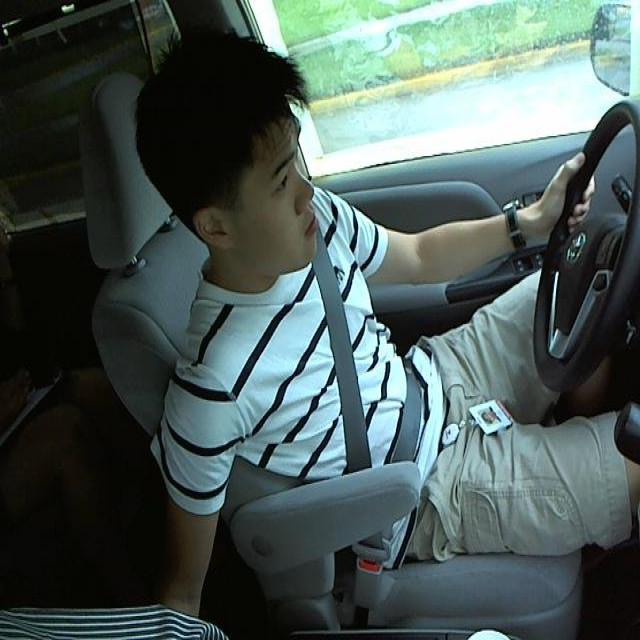seatbelt: (316, 268, 445, 476)
